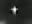person: (11, 6, 20, 16)
